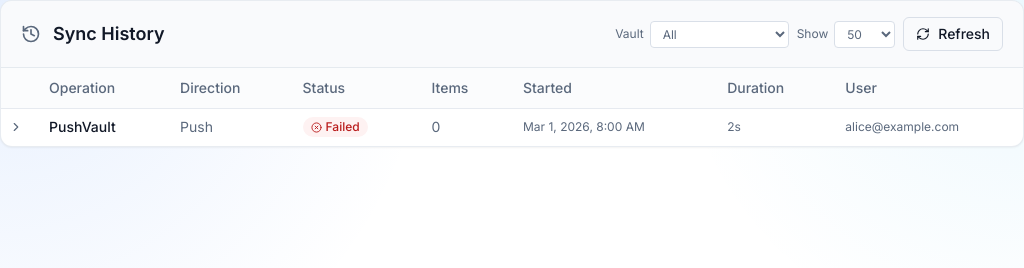
Test: SyncHistoryTable › Should_ExpandErrorRow_WhenFailedRowClicked
The image size is (1024, 268).
Expected: the text "Remote server returned 500" is not shown
Click the text "PushVault" at (99, 127), box [33,108,164,146]
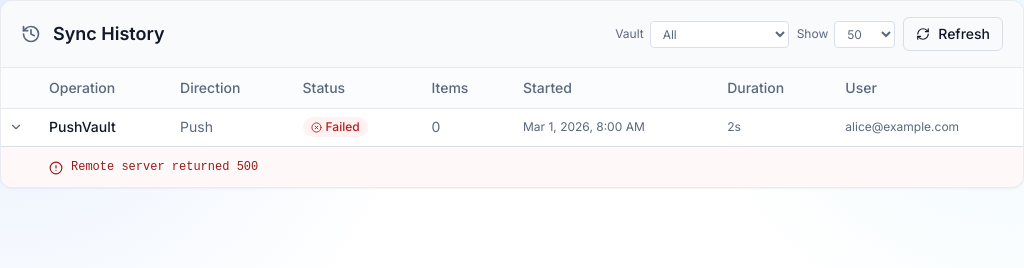
Now the text "Remote server returned 500" is shown, box [71,160,258,174]
